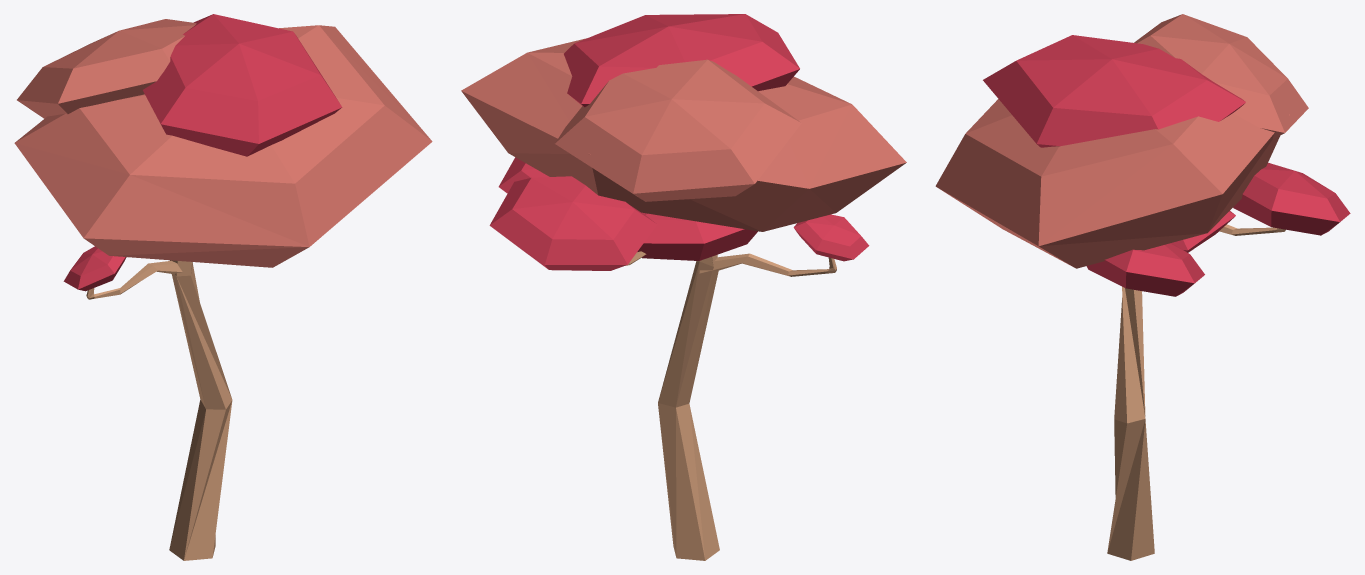
File: Tree1_Rot270.fbx
The picture shows the model from 3 angles, left to right: view 1: azimuth 30°, elevation 25°; view 2: azimuth 150°, elevation 25°; view 3: azimuth 270°, elevation 25°; orthographic projection.
Parts seen in each view (by area): view 1: Sphere.000; view 2: Sphere.000; view 3: Sphere.000.
Boxes of the visible parts, x1,y1,x2,y2 form: Sphere.000: (14,14,432,560); Sphere.000: (461,14,906,560); Sphere.000: (935,14,1350,560).
Size of the model in its own units: 447 by 612 by 453.
